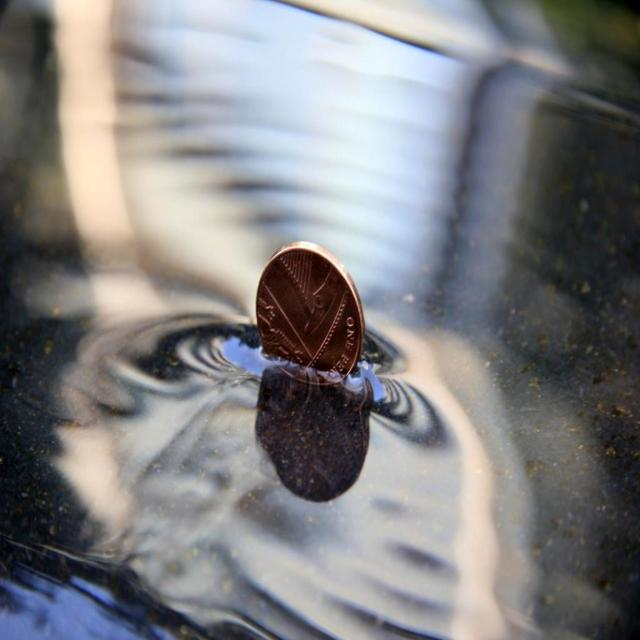Coin: (256, 241, 366, 390)
